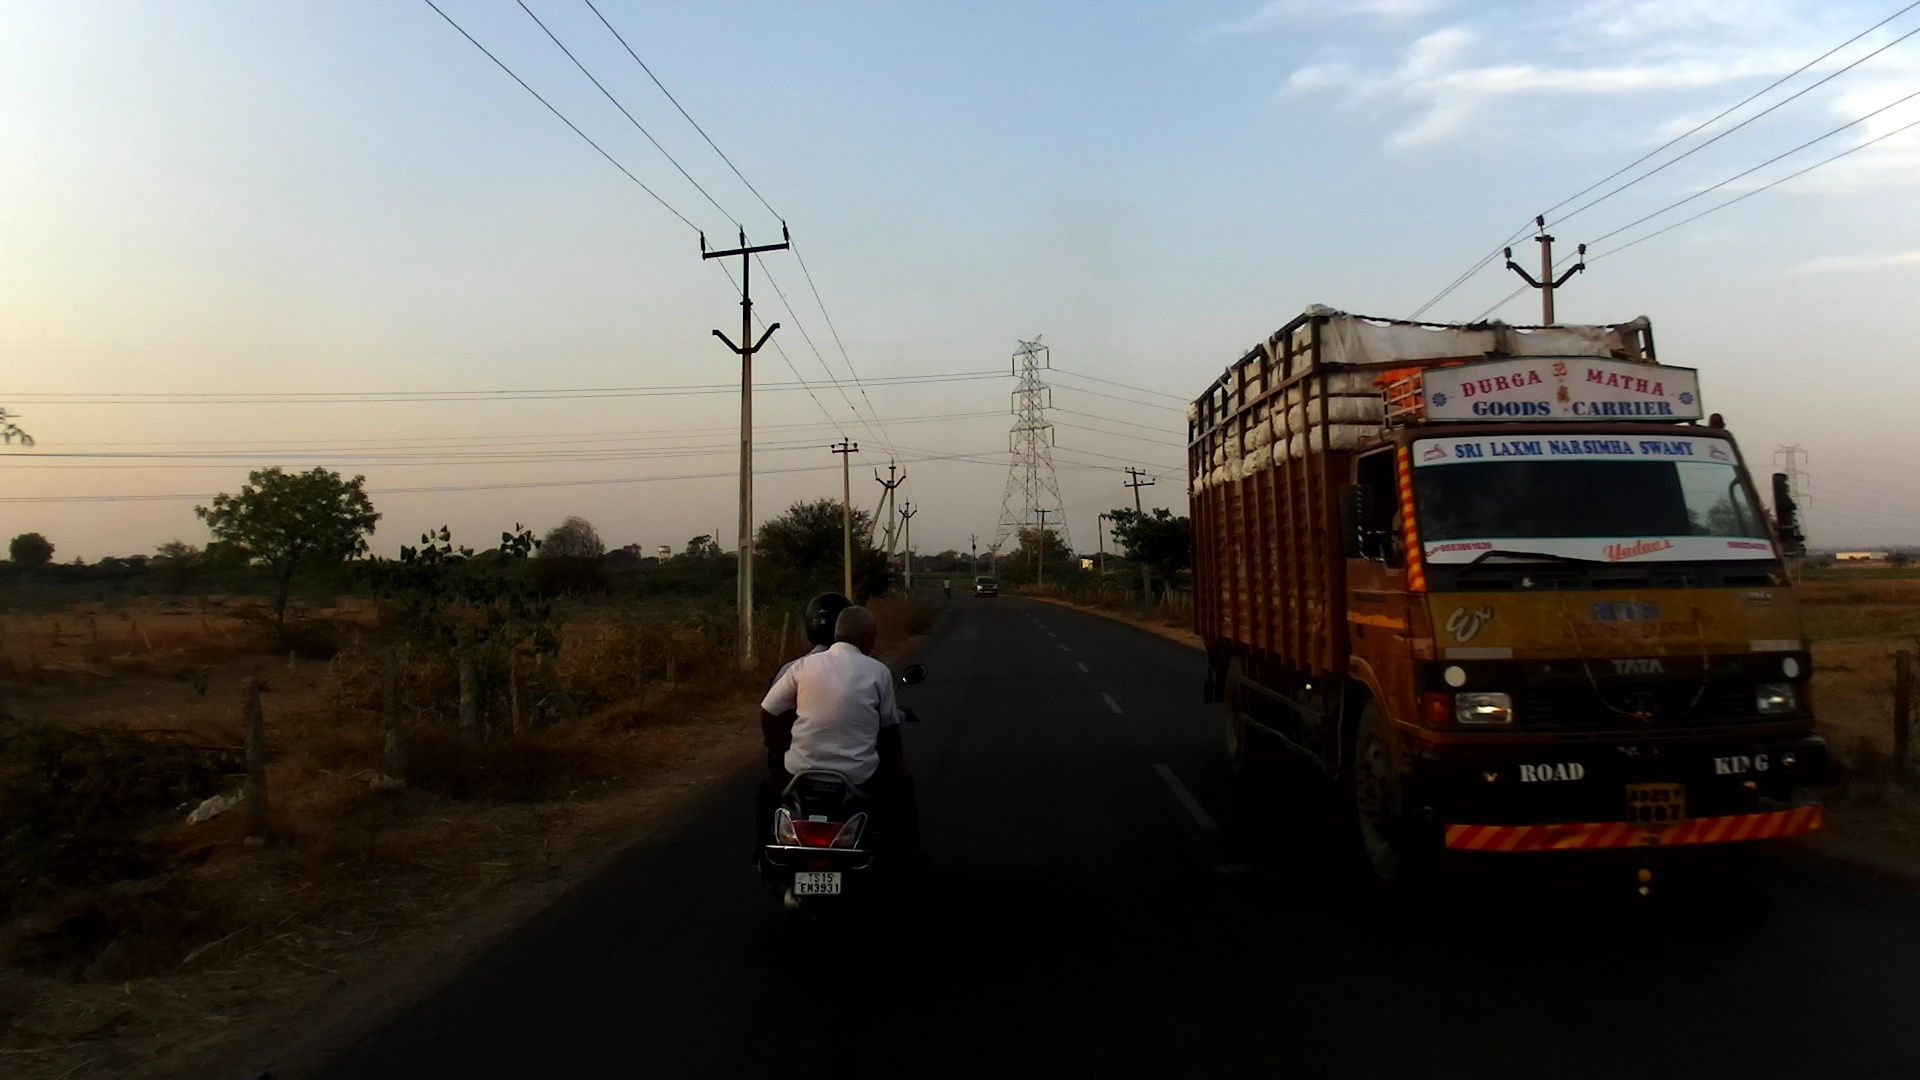bicycle: (945, 583, 954, 603)
car: (971, 574, 1000, 598)
motorcycle: (756, 659, 936, 943)
rider: (746, 605, 928, 875), (761, 590, 900, 819), (941, 576, 954, 596)
truck: (1188, 313, 1844, 946)
